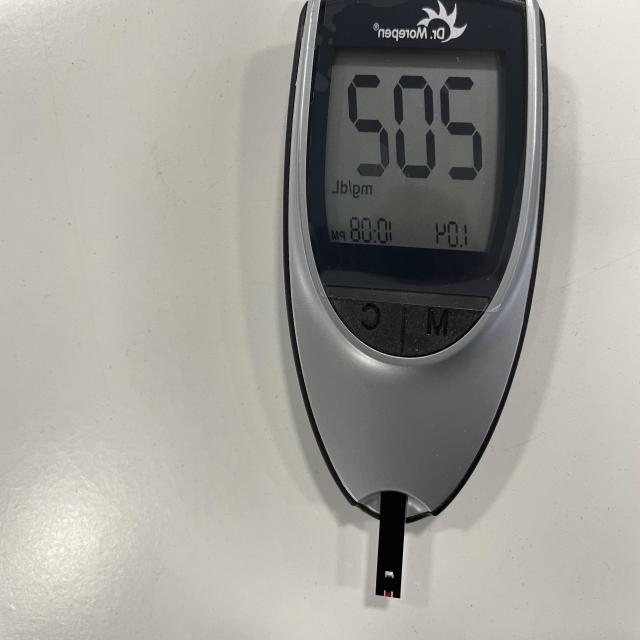gluco: (283, 0, 547, 555)
